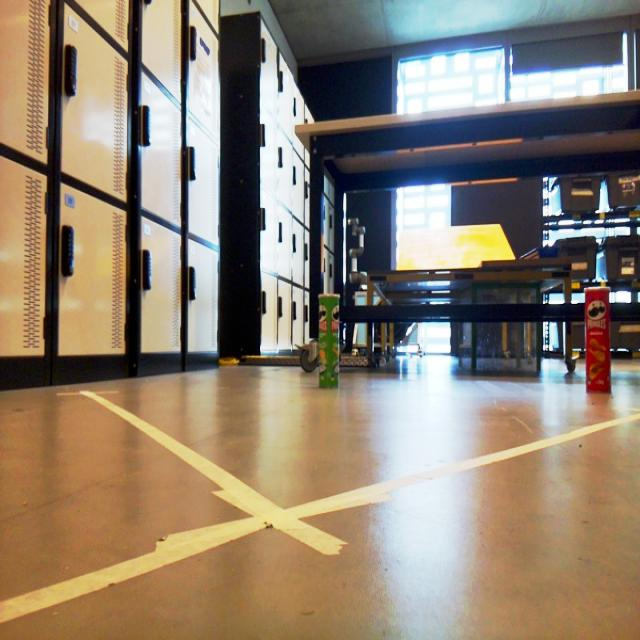greenpringles: (311, 278, 351, 387)
redpringles: (556, 272, 620, 406)
